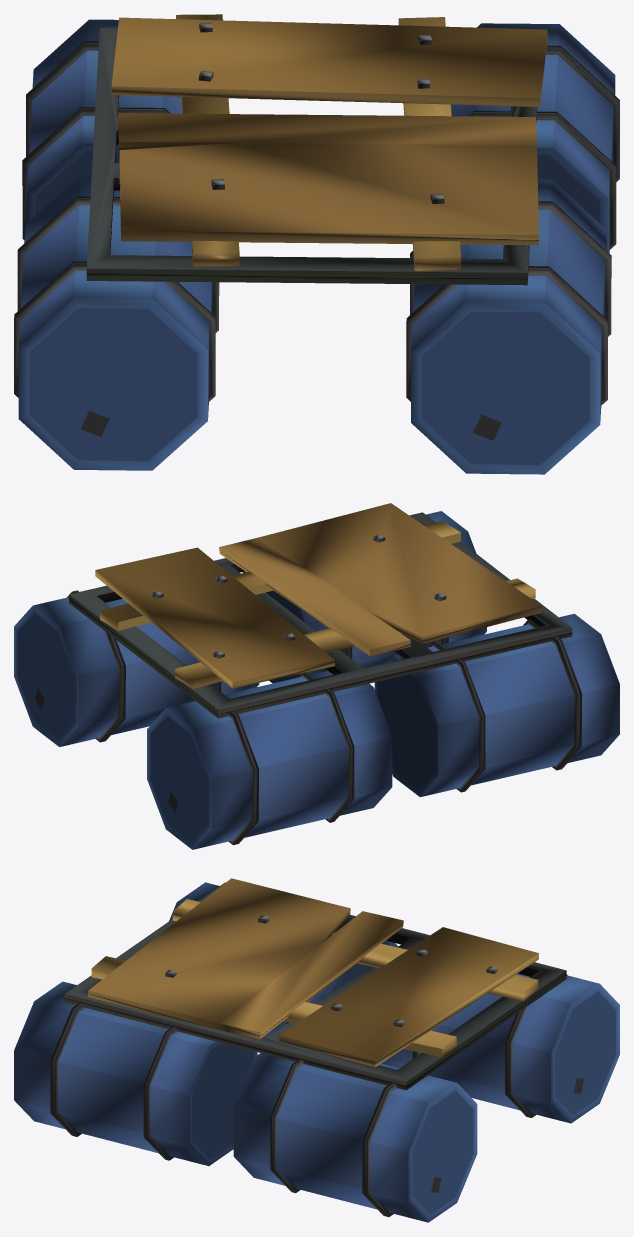
File: apoc_prop_39.glb
3 views of the same model, one above another, from view 1: azimuth 30°, elevation 25°; view 2: azimuth 150°, elevation 25°; view 3: azimuth 270°, elevation 25° (orthographic). The views are drawn at different scales.
Parts seen in each view (by area): view 1: prop_041; view 2: prop_041; view 3: prop_041.
Boxes of the visible parts, x1,y1,x2,y2 form: prop_041: (14, 14, 619, 474); prop_041: (14, 503, 619, 849); prop_041: (14, 878, 619, 1222).
Size of the model in its own units: 0.9682 by 0.2782 by 0.9983.
1 material, 1 textured.
